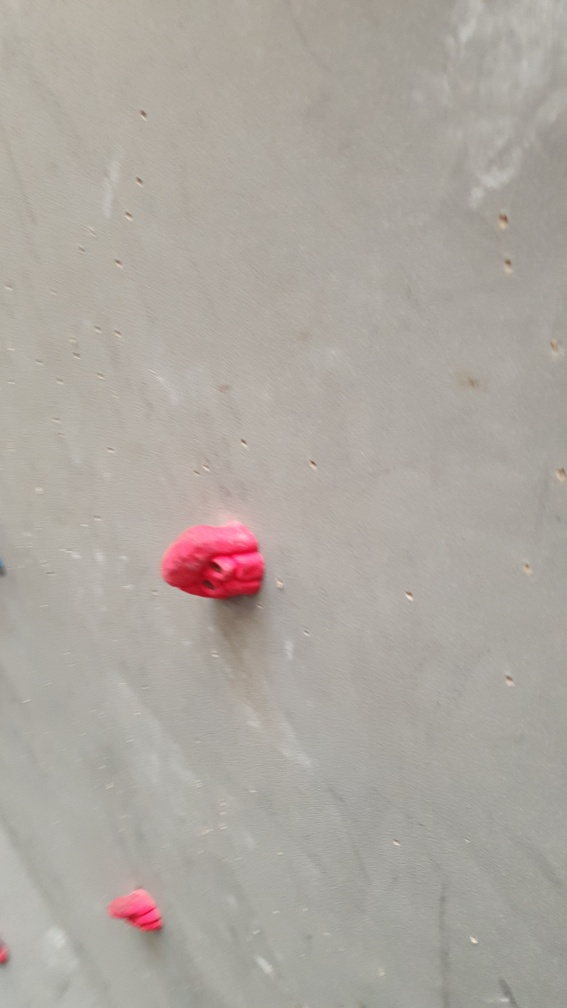Jug: (161, 510, 269, 607), (107, 884, 164, 936)
